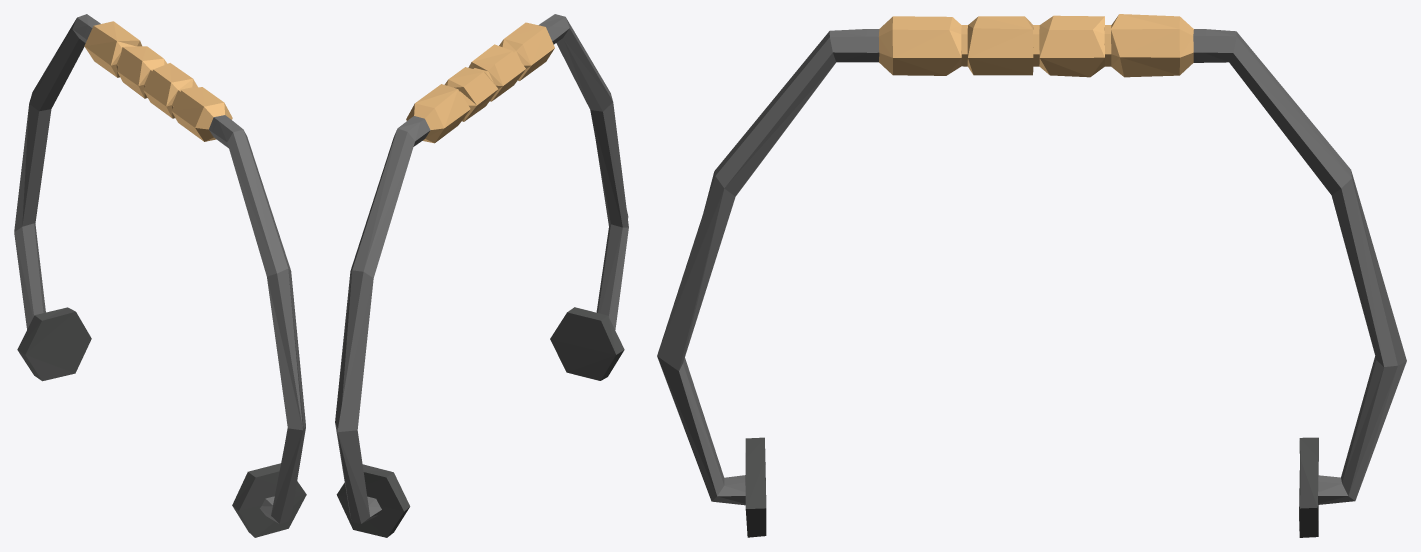
The model's file is SFI_Cauldron_Hanger_002.fbx.
3 views of the same model, side by side, from view 1: azimuth 30°, elevation 25°; view 2: azimuth 150°, elevation 25°; view 3: azimuth 270°, elevation 25° (orthographic). The views are drawn at different scales.
Visible parts, largest first — view 1: SFI_Cauldron_Hanger_002; view 2: SFI_Cauldron_Hanger_002; view 3: SFI_Cauldron_Hanger_002.
Boxes of the visible parts, x1,y1,x2,y2 form: SFI_Cauldron_Hanger_002: (14,14,306,537); SFI_Cauldron_Hanger_002: (335,14,628,537); SFI_Cauldron_Hanger_002: (657,14,1406,537).
Size of the model in its own units: 4.46 by 24.17 by 32.43.
